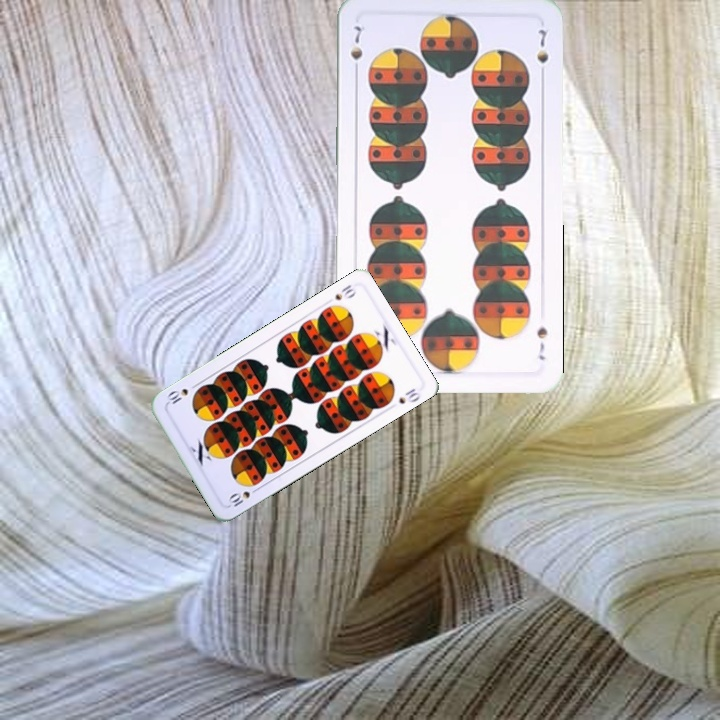S10: (224, 483, 262, 509), (330, 280, 358, 303)
S7: (346, 22, 365, 78), (533, 323, 550, 362)
